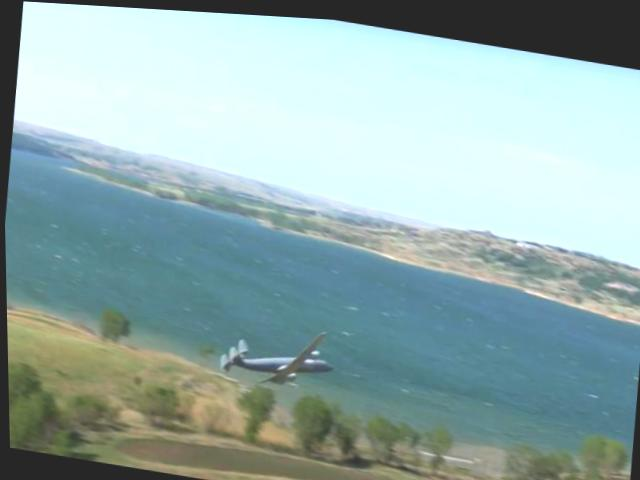iha: (212, 310, 337, 395)
